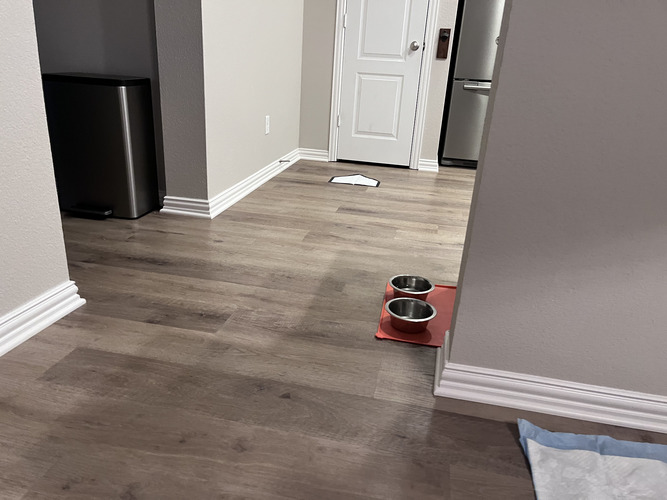homeplate: (328, 173, 379, 187)
